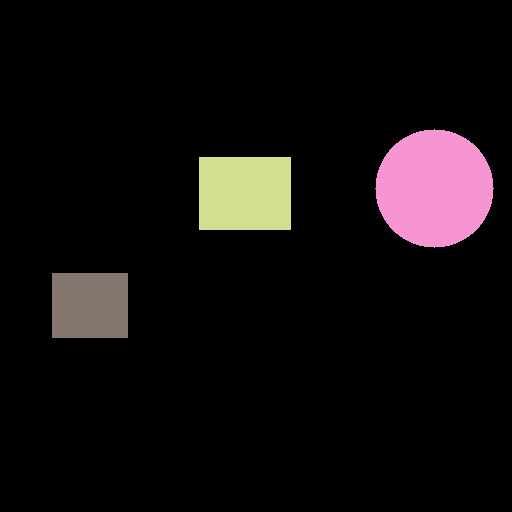circle: (375, 129, 493, 247)
rectangle: (199, 157, 290, 229), (52, 273, 127, 337)
